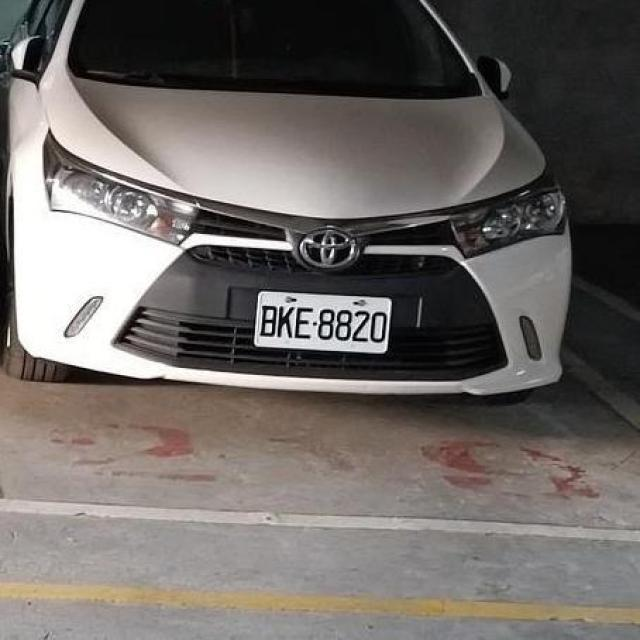W: (240, 278, 408, 368)
